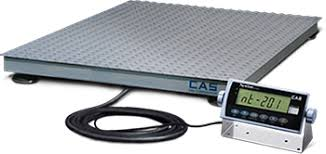Industrial Scale: (1, 1, 323, 154)
